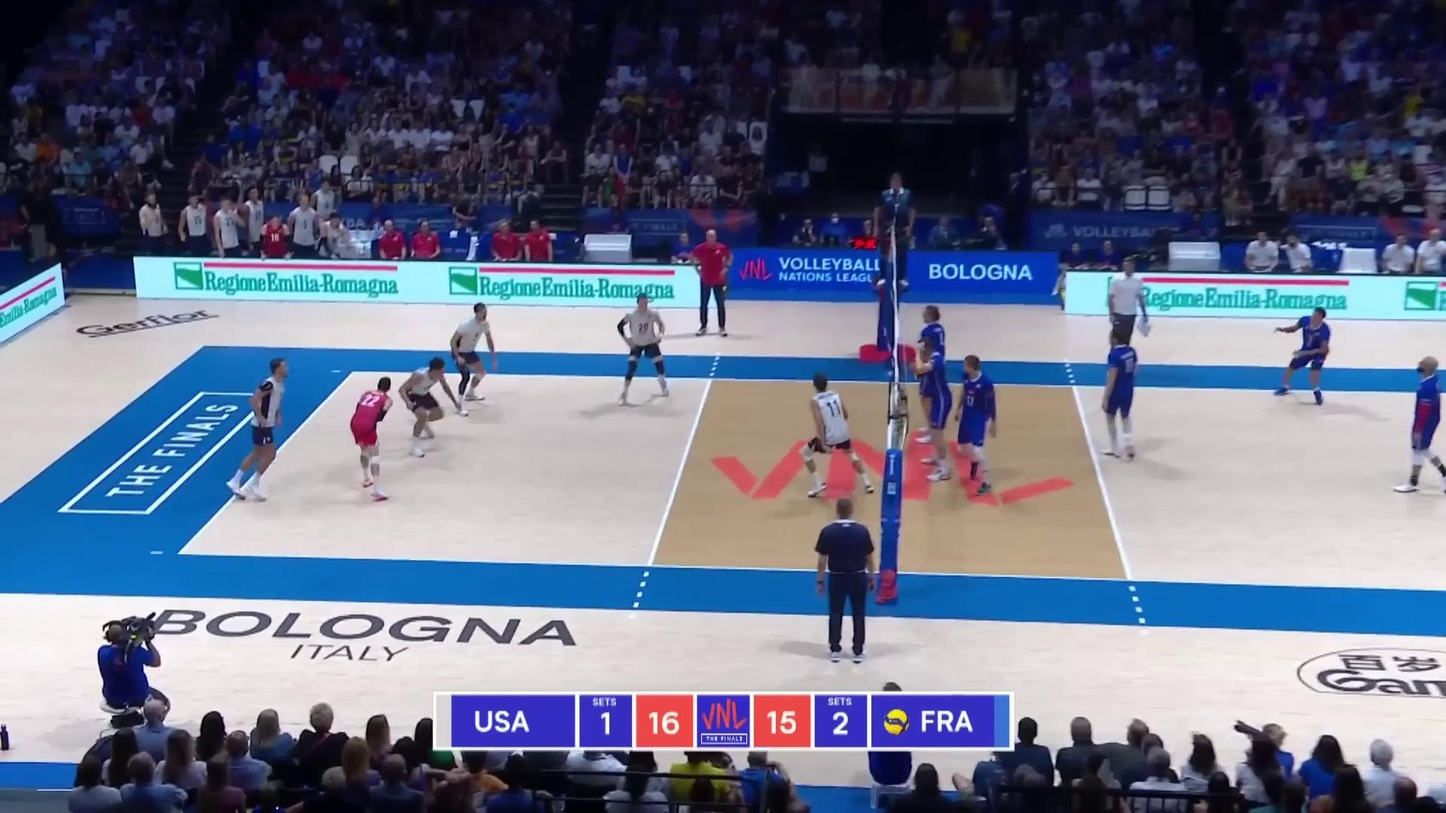player: (227, 357, 294, 504), (799, 375, 873, 494), (948, 353, 998, 495), (1394, 357, 1445, 494), (346, 375, 397, 502), (911, 339, 954, 484), (1270, 307, 1330, 404), (615, 294, 667, 405), (397, 359, 454, 459), (912, 308, 952, 445), (451, 305, 498, 416), (1102, 331, 1141, 459)
refree: (812, 498, 876, 660), (874, 175, 913, 287)
